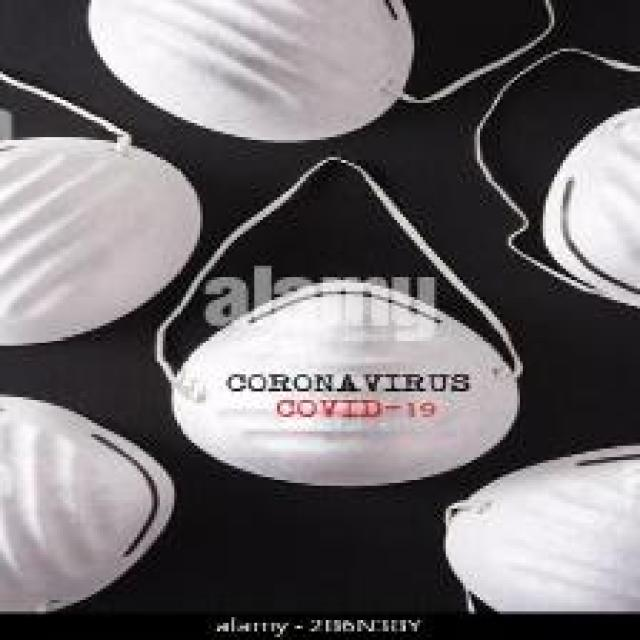Mask: (138, 142, 546, 525), (86, 0, 610, 135), (0, 75, 218, 366), (0, 376, 227, 640), (467, 425, 640, 640), (533, 122, 640, 313)
